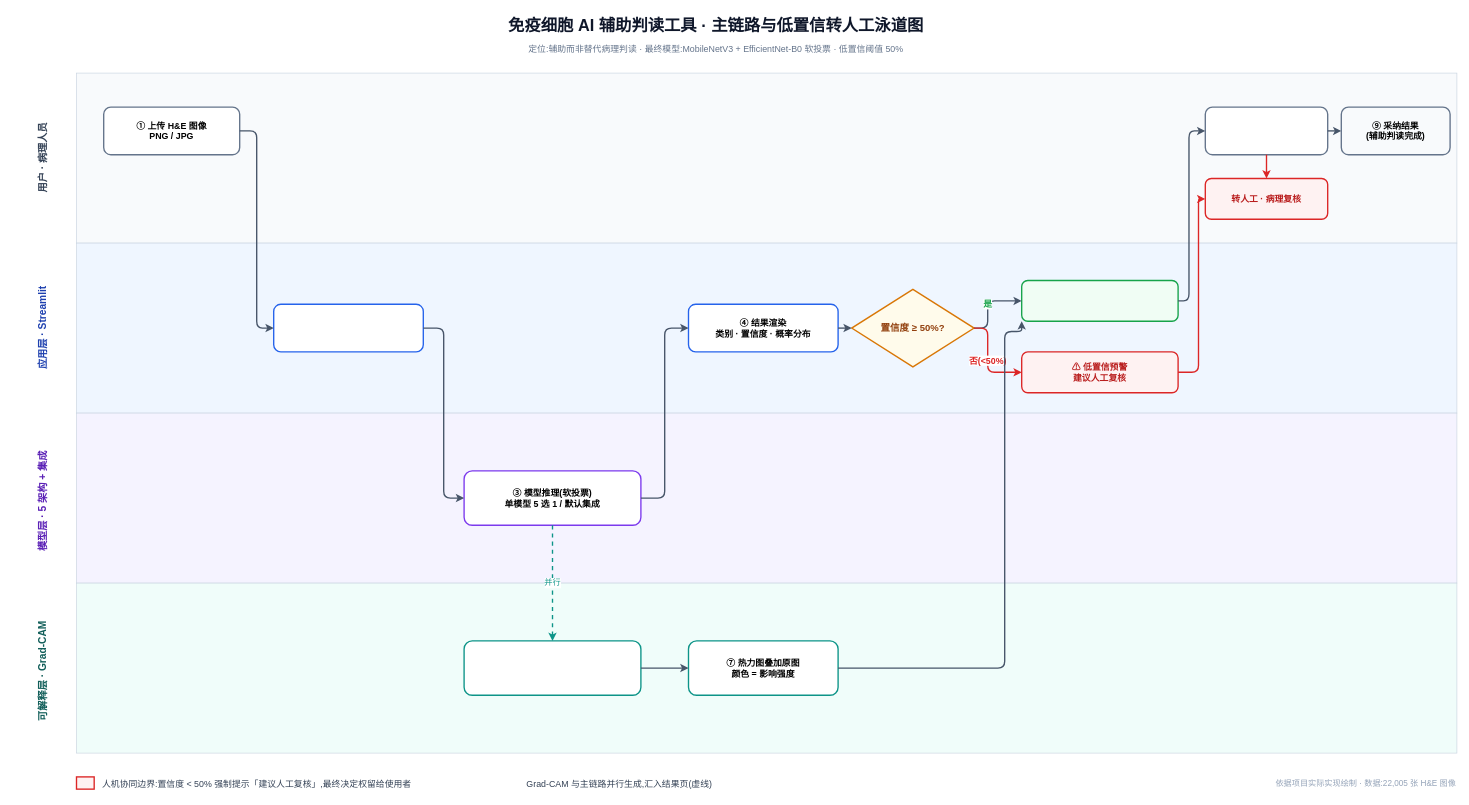
The diagram is 1469 pixels wide and 805 high, and some of its shapes have lost their labels. Each missing label, with the centre of its shape:
"② 图像预处理 Resize 224×224 · 归一化" belongs at (x=348, y=327).
"⑤ 正常展示预测结果" belongs at (x=1099, y=300).
"⑥ Grad-CAM 热力图生成 逐集成组件 · 类别归因" belongs at (x=552, y=668).
"⑧ 查看预测与热力图解释" belongs at (x=1266, y=130).
